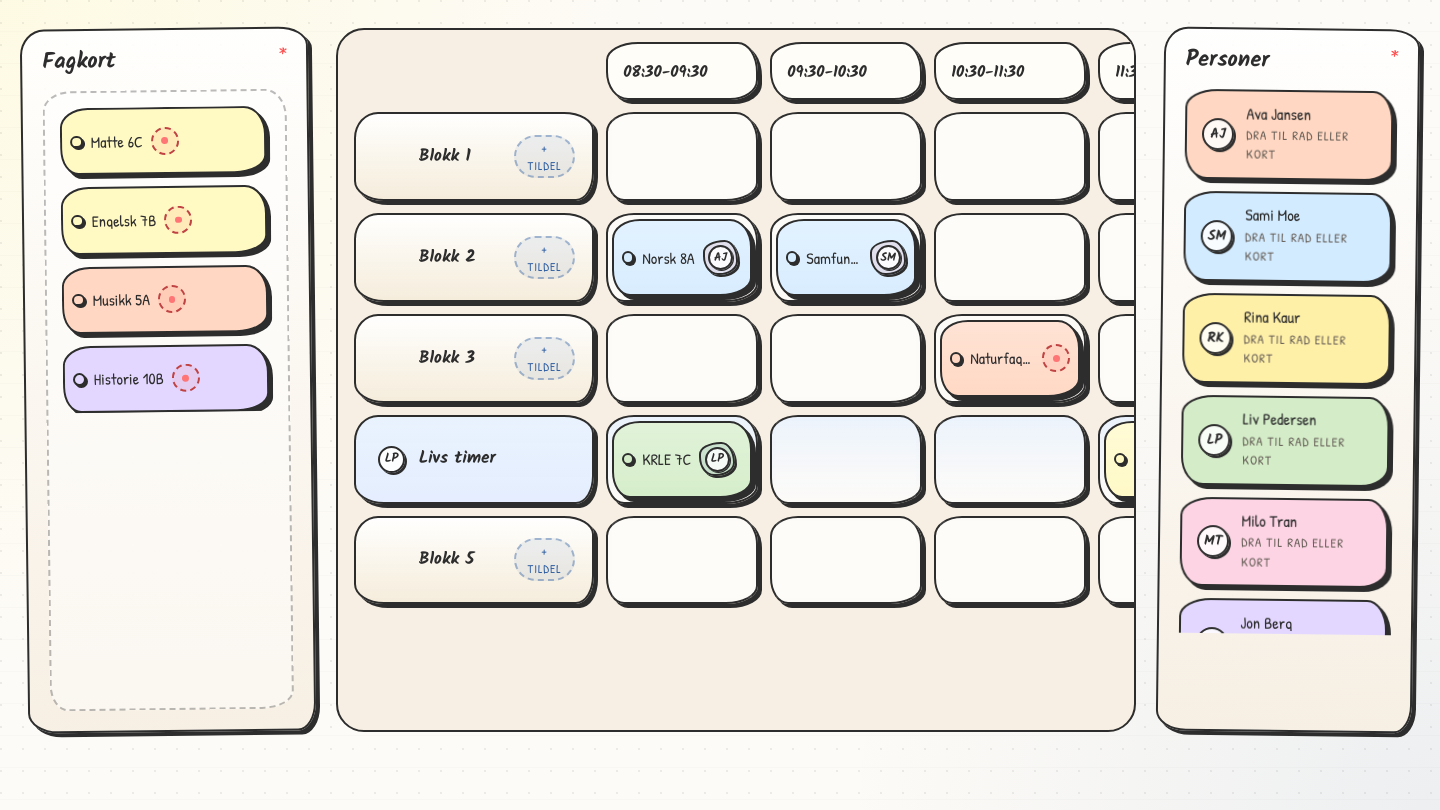
Test: App › opens row details with owner and scheduled tasks
The image size is (1440, 810).
Click the button "LP Livs timer": (437, 459) [378,446,496,473]
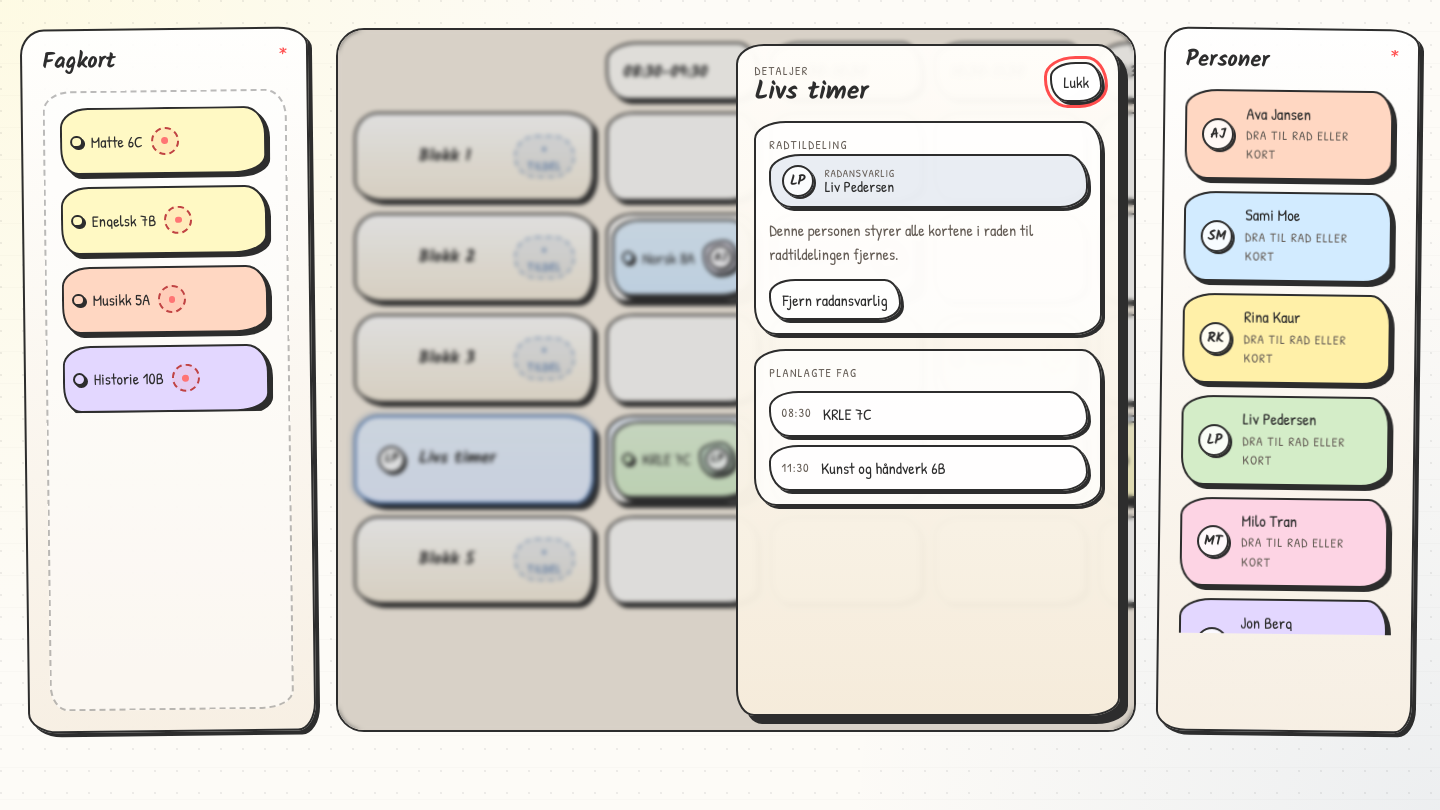
Expected: the heading "Livs timer" is shown, [754,80,869,105]
Expected: the text "Radansvarlig" is shown, [825,168,895,179]
Expected: the text "Liv Pedersen" below "Detaljer" is shown, [825,176,894,197]
